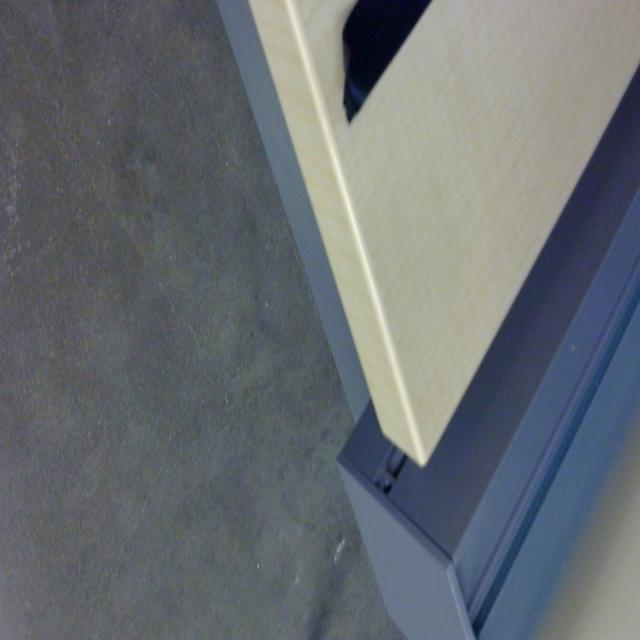tape: (309, 0, 447, 148)
